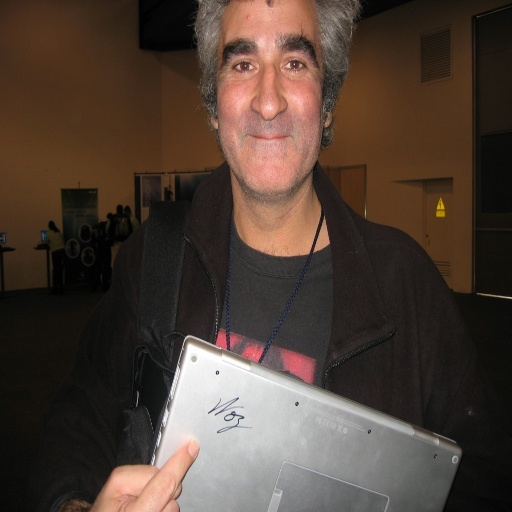hand: (94, 438, 217, 509)
